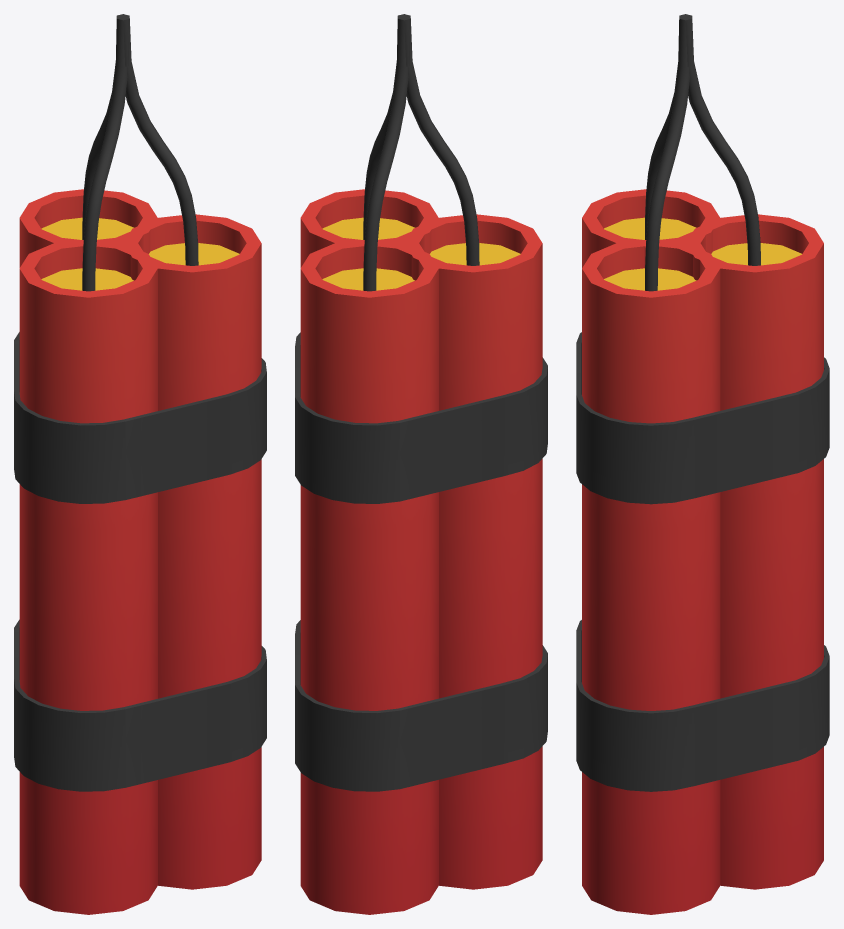
File: Bomb01.fbx
3 renders of one model, left to right at view 1: azimuth 30°, elevation 25°; view 2: azimuth 150°, elevation 25°; view 3: azimuth 270°, elevation 25°, orthographic.
Visible parts, largest first — view 1: Bomb01; view 2: Bomb01; view 3: Bomb01.
Part boxes in pixels (box(x1,y1,x2,y2)): Bomb01: box(14, 14, 266, 914); Bomb01: box(295, 14, 547, 914); Bomb01: box(576, 14, 829, 914).
Size of the model in its own units: 153 by 528 by 144.
